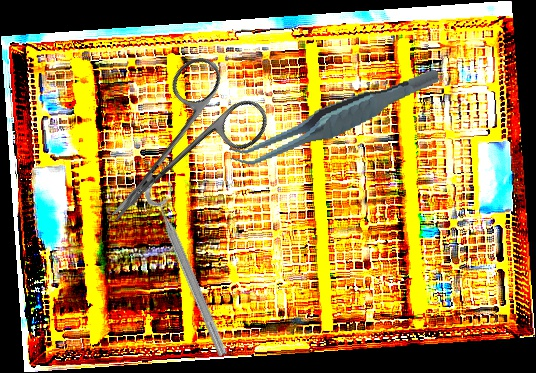Fixation Ring: (141, 175, 242, 359)
Iris Scissors: (71, 47, 277, 254)
Tissue Forceps: (221, 68, 448, 169)
